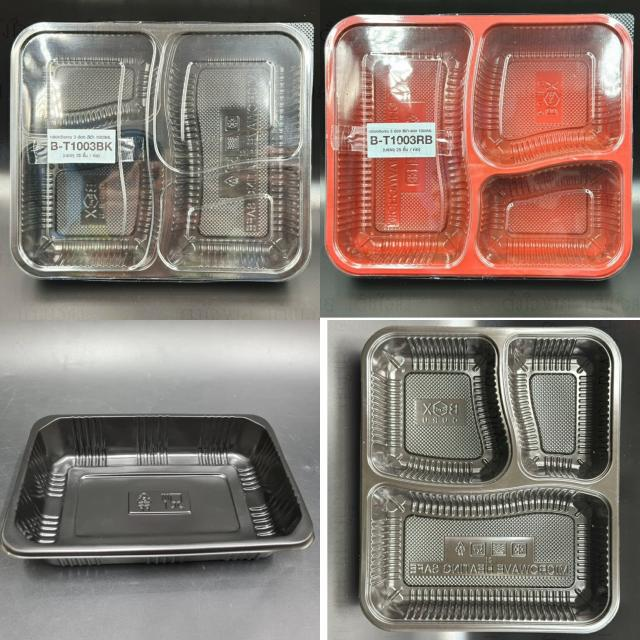Single-Use-Plastic: (326, 15, 632, 278), (360, 326, 621, 632), (11, 22, 312, 281), (2, 416, 312, 565)
